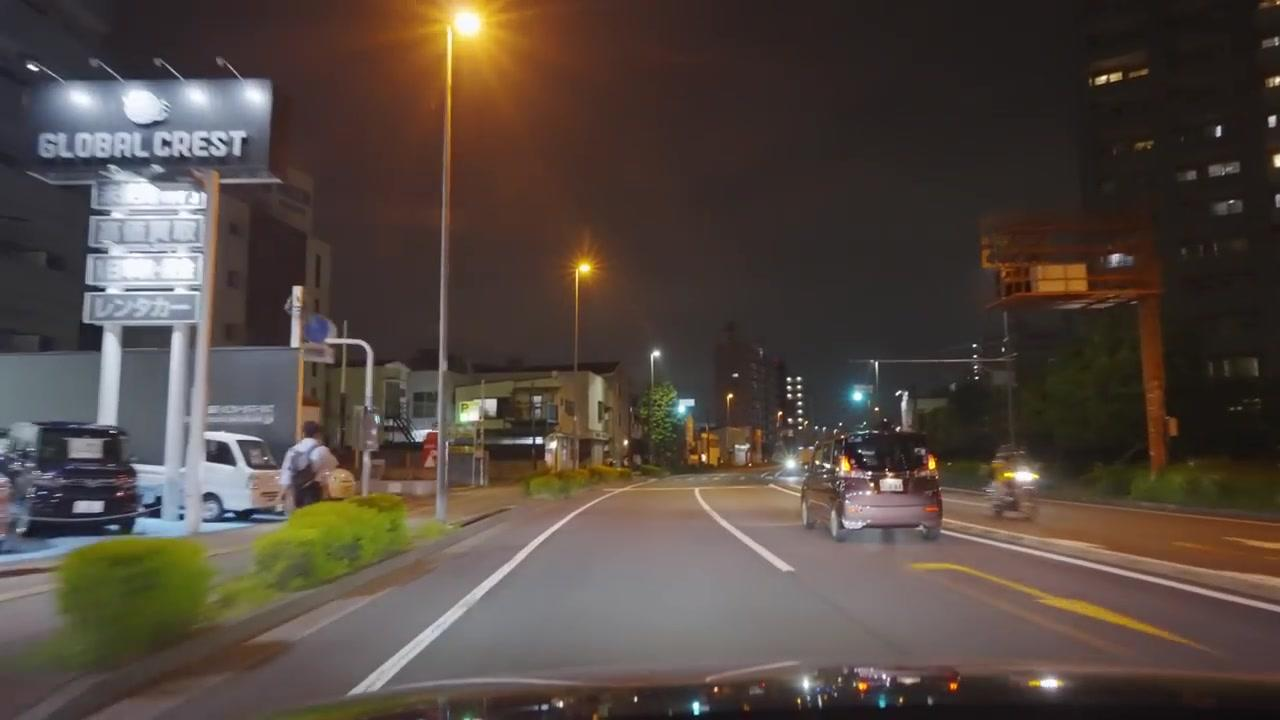car: (2, 419, 141, 537), (800, 427, 941, 542), (130, 428, 286, 521), (773, 464, 808, 485)
motorcycle: (987, 465, 1041, 520)
person: (277, 422, 338, 512)
traffic light: (852, 385, 867, 407)
truck: (205, 345, 346, 465)
